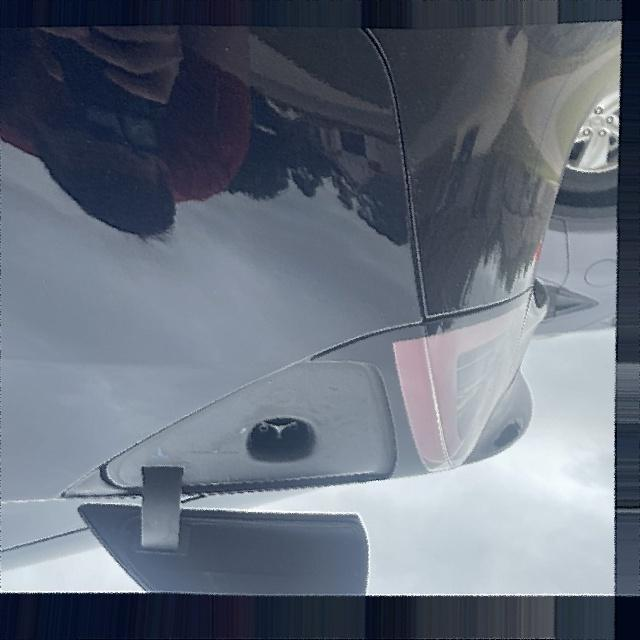Tesla Model-S-: (240, 400, 324, 478)
